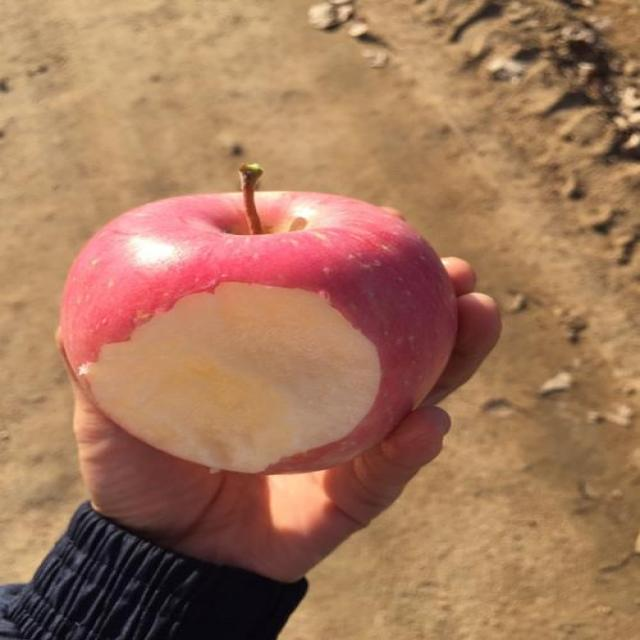Rotten: (64, 176, 454, 476)
